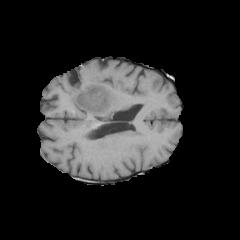glioma: (59, 71, 111, 119)
